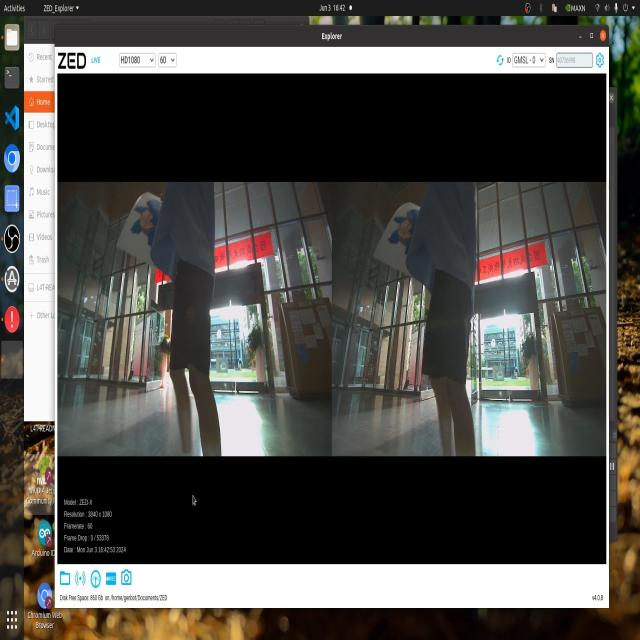blue: (123, 193, 160, 248), (394, 198, 420, 256)
